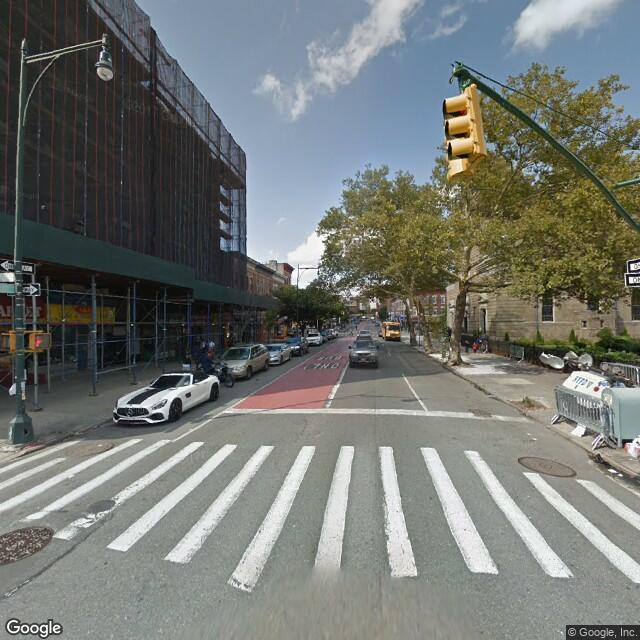litter: (625, 438, 640, 455), (608, 467, 617, 475)
